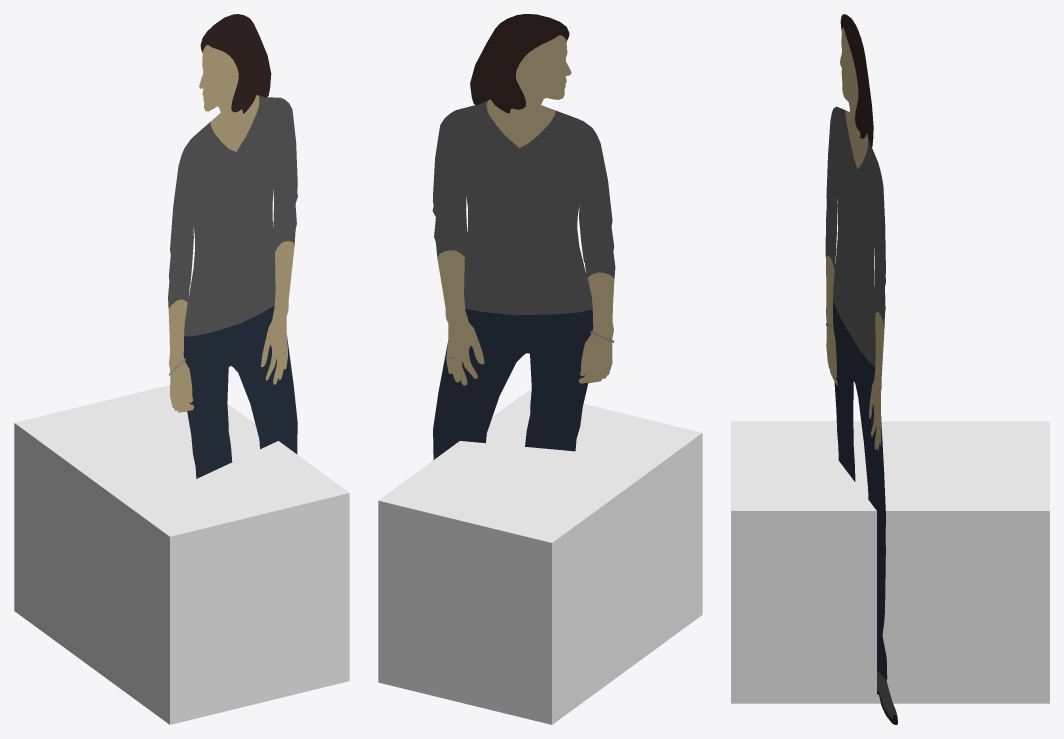
The model's file is asd_ar_17_board.dae.
The picture shows the model from 3 angles, left to right: view 1: azimuth 30°, elevation 25°; view 2: azimuth 150°, elevation 25°; view 3: azimuth 270°, elevation 25°; orthographic projection. The views are drawn at different scales.
Parts seen in each view (by area): view 1: SketchUp, instance_0 (×7); view 2: SketchUp, instance_0 (×7); view 3: SketchUp, instance_0 (×5).
Boxes of the visible parts, <box> form: SketchUp: <box>14,385,349,724</box>; instance_0 (×7): <box>168,14,297,478</box>; SketchUp: <box>378,390,702,724</box>; instance_0 (×7): <box>432,14,615,459</box>; SketchUp: <box>731,421,1049,703</box>; instance_0 (×5): <box>825,14,887,679</box>.
Bounding box in the file's own units: 25.73 × 29.53 × 66.6.
